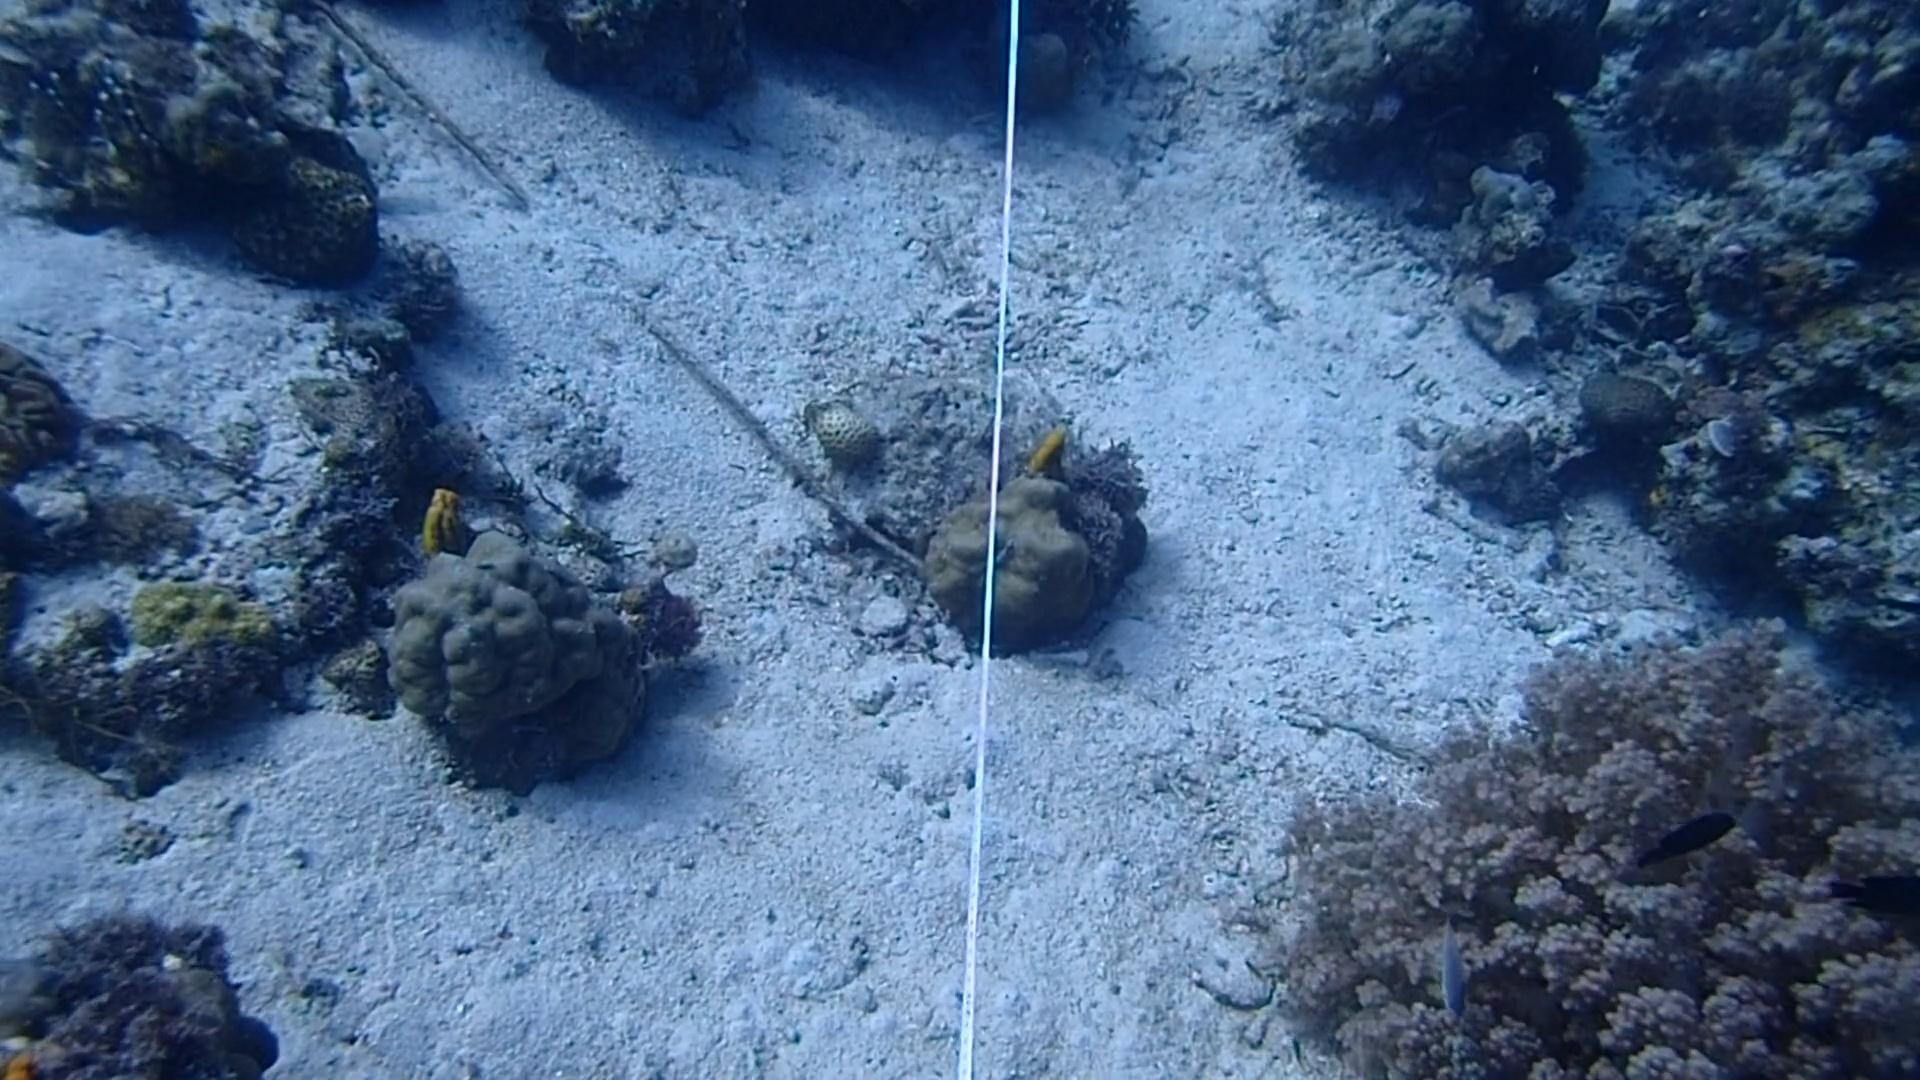Dark Fish: (1618, 802, 1747, 876), (1825, 856, 1920, 931)
Light Fish: (1419, 907, 1476, 1023)
